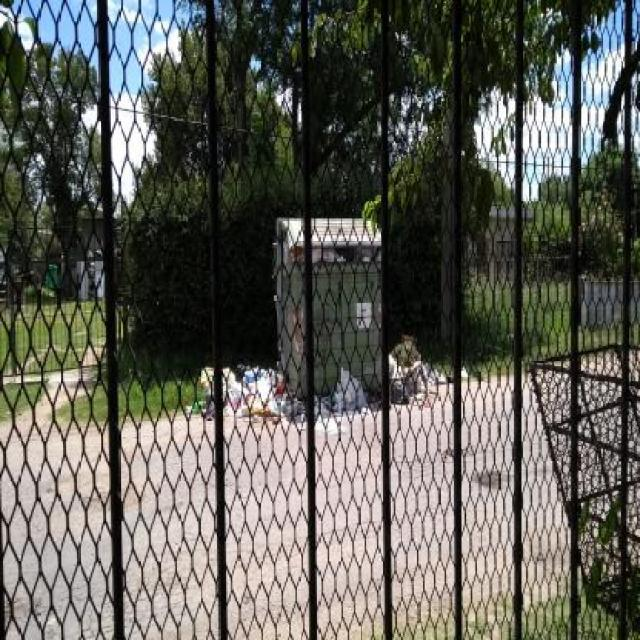garbage: (195, 357, 300, 420), (306, 362, 377, 422), (293, 239, 392, 280), (386, 349, 472, 396)
